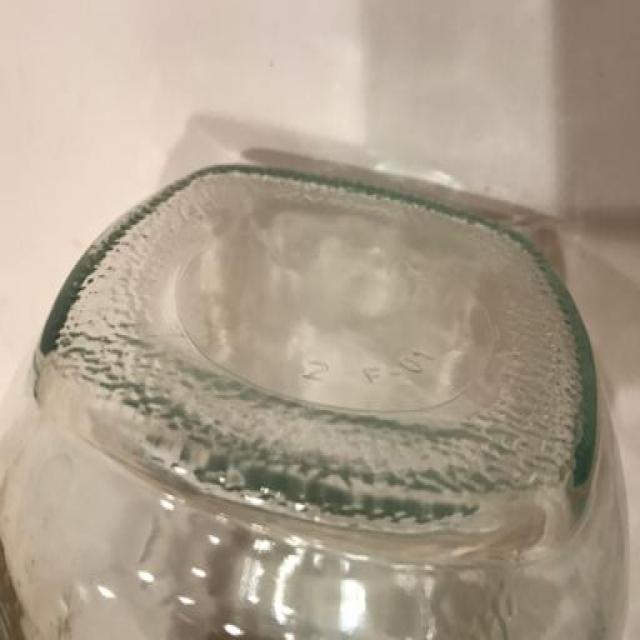glass: (1, 158, 630, 640)
